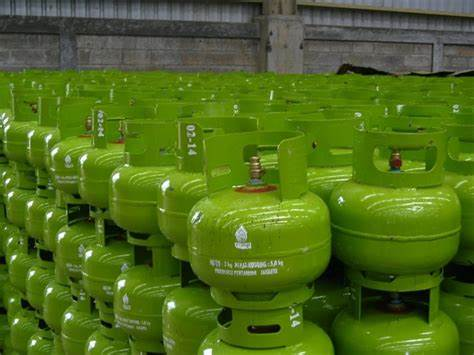gas_ijo: (189, 129, 327, 308), (331, 127, 461, 290), (158, 114, 267, 259), (337, 274, 461, 355), (114, 230, 194, 347), (112, 115, 184, 245), (197, 302, 337, 355), (81, 103, 147, 204), (82, 217, 144, 324), (160, 260, 227, 355), (51, 96, 108, 204), (308, 85, 463, 121), (138, 80, 281, 117), (57, 208, 119, 288), (44, 280, 101, 355), (2, 233, 51, 310), (28, 179, 79, 249), (1, 158, 49, 230), (29, 71, 118, 101), (33, 94, 67, 170), (2, 87, 38, 156), (5, 311, 43, 354)
